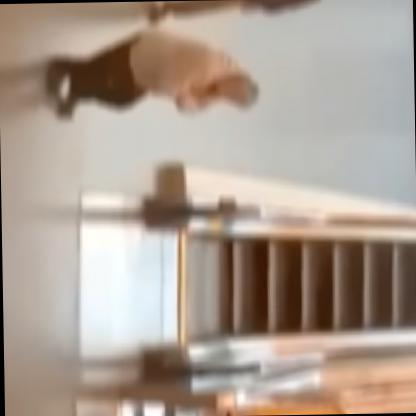Human Body: (42, 21, 262, 129)
